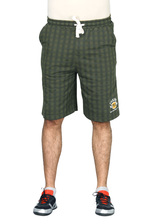clothoes: (31, 14, 131, 125)
shoes: (88, 185, 122, 218), (30, 186, 65, 218)
